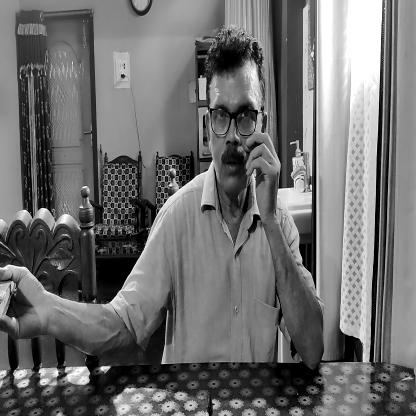Normal: (196, 22, 268, 205)
